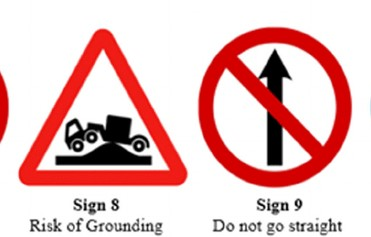Traffic signal: (18, 27, 188, 188), (199, 26, 354, 187)
